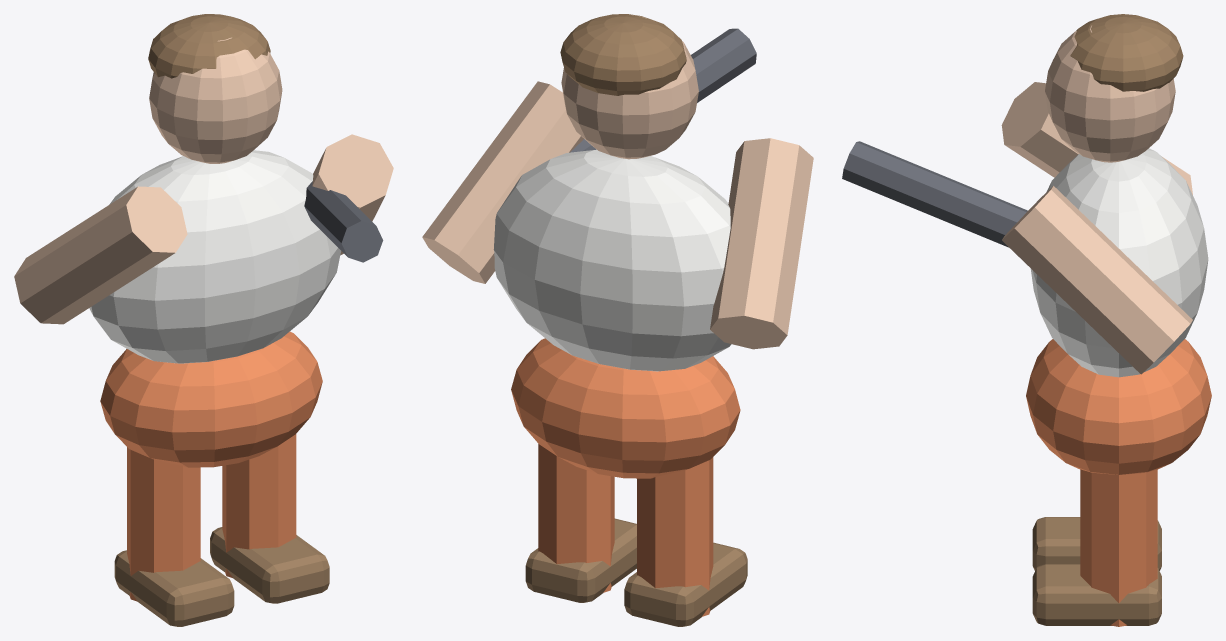
The model's file is runner.glb.
The picture shows the model from 3 angles, left to right: view 1: azimuth 30°, elevation 25°; view 2: azimuth 150°, elevation 25°; view 3: azimuth 270°, elevation 25°; orthographic projection. The views are drawn at different scales.
Parts seen in each view (by area): view 1: runner; view 2: runner; view 3: runner.
Part boxes in pixels (<box>): runner: <box>14,14,393,626</box>; runner: <box>422,14,813,626</box>; runner: <box>842,14,1211,626</box>.
Bounding box in the file's own units: 0.947 × 1.45 × 0.859.
